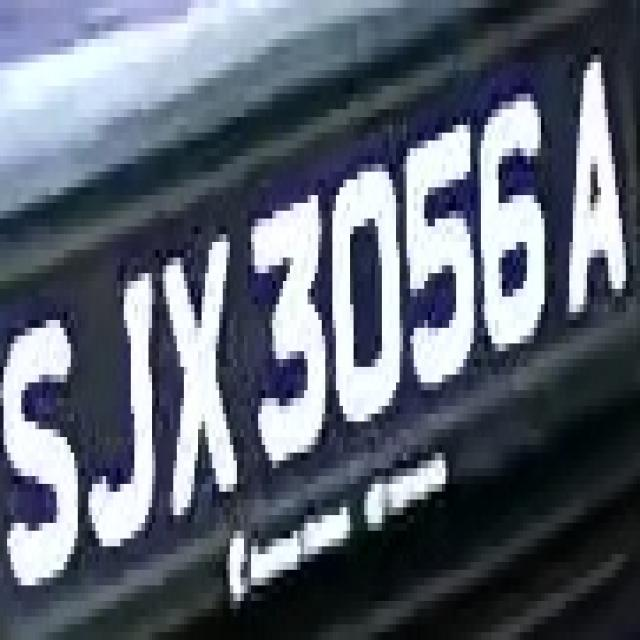0: (325, 156, 403, 461)
3: (240, 180, 329, 476)
5: (399, 102, 481, 430)
6: (463, 94, 562, 390)
A: (555, 16, 626, 312)
J: (53, 242, 163, 570)
S: (0, 266, 78, 632)
X: (145, 219, 240, 554)
